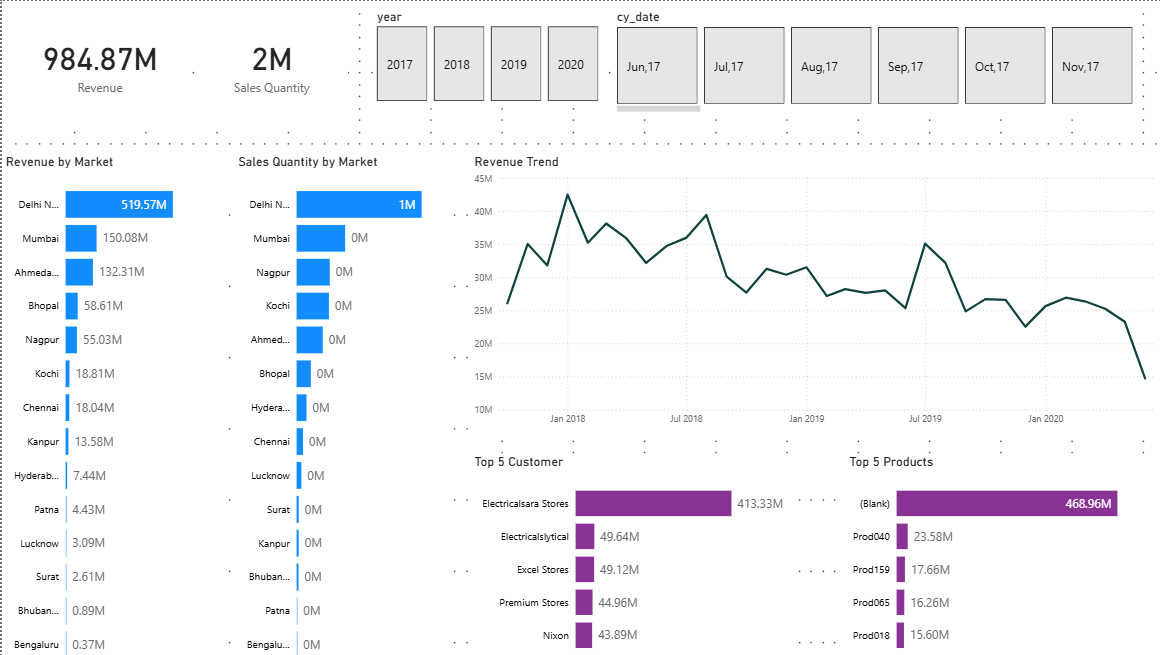

This screenshot's page, from the dashboard's own definition file:
{"tool":"powerbi","page":{"name":"Page 1","canvas":[1599,885],"ordinal":0},"visuals":[{"type":"card","fields":{"Values":["BaseMeasures.Revenue"]},"box":[15,0,231.7,166.7],"z":0},{"type":"card","fields":{"Values":["BaseMeasures.Sales Qty"]},"box":[258.3,0,203.3,166.7],"z":1000},{"type":"barChart","title":"Revenue by Market","fields":{"Y":["BaseMeasures.Revenue"],"Category":["markets.markets_name"]},"box":[0,203.3,290,696.7],"z":2000},{"type":"barChart","title":"Sales Quantity by Market","fields":{"Category":["markets.markets_name"],"Y":["BaseMeasures.Sales Qty"]},"box":[310,203.3,281.7,696.7],"z":3000},{"type":"advancedSlicerVisual","fields":{"Values":["date.year"]},"box":[495,10,306.7,128.3],"z":4000},{"type":"advancedSlicerVisual","fields":{"Values":["date.cy_date"]},"box":[815,10,701.7,145],"z":5000},{"type":"barChart","title":"Top 5 Customer","fields":{"Y":["BaseMeasures.Revenue"],"Category":["customers.custmer_name"]},"box":[625,603.3,426.7,283.3],"z":6000},{"type":"barChart","title":"Top 5 Products","fields":{"Y":["BaseMeasures.Revenue"],"Category":["products.product_code"]},"box":[1125,603.3,428.3,283.3],"z":7000},{"type":"lineChart","title":"Revenue Trend","fields":{"Y":["BaseMeasures.Revenue"],"Category":["date.cy_date.Variation.Date Hierarchy.Year","date.cy_date.Variation.Date Hierarchy.Quarter","date.cy_date.Variation.Date Hierarchy.Month","date.cy_date.Variation.Date Hierarchy.Day"]},"box":[625,203.3,928.3,371.7],"z":8000}]}

Visuals, with their boxes in screenshot pixels (x1, y1, x2, y2), scaled from the page's 1599x885 canvas onto the 1160x655 screenshot:
card - BaseMeasures.Revenue: detection(11, 0, 179, 123)
card - BaseMeasures.Sales Qty: detection(187, 0, 335, 123)
"Revenue by Market" barChart: detection(0, 150, 210, 654)
"Sales Quantity by Market" barChart: detection(225, 150, 429, 654)
advancedSlicerVisual - date.year: detection(359, 7, 582, 102)
advancedSlicerVisual - date.cy_date: detection(591, 7, 1100, 115)
"Top 5 Customer" barChart: detection(453, 447, 763, 654)
"Top 5 Products" barChart: detection(816, 447, 1127, 654)
"Revenue Trend" lineChart: detection(453, 150, 1127, 426)
